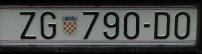-: (143, 22, 152, 29)
0: (123, 10, 140, 40), (174, 11, 190, 40)
7: (82, 12, 100, 41)
9: (103, 11, 119, 40)
D: (154, 11, 171, 40)
G: (39, 10, 55, 39)
Z: (19, 12, 37, 40)
